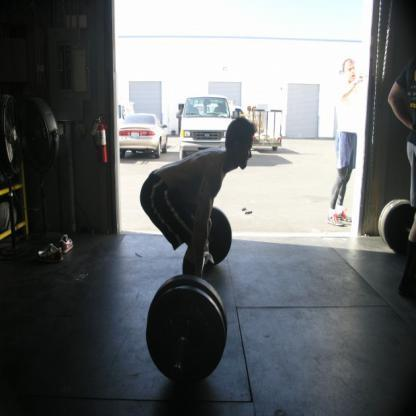barbell: (144, 204, 235, 387)
